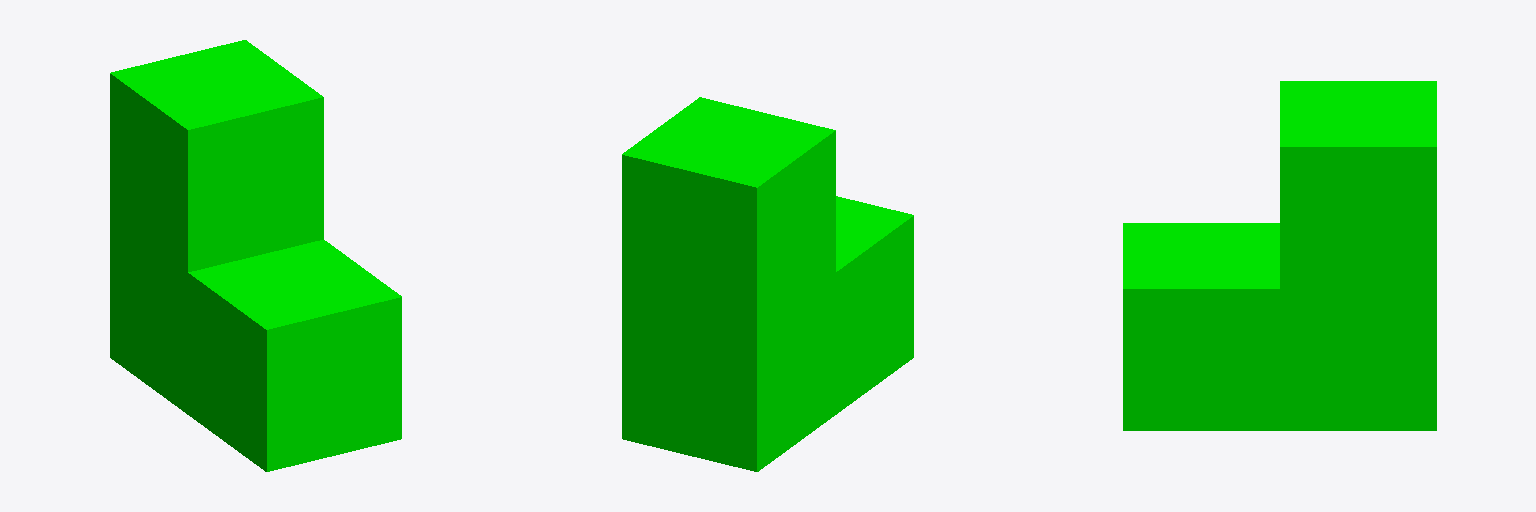
The model's file is Furnace.obj.
3 renders of one model, left to right at view 1: azimuth 30°, elevation 25°; view 2: azimuth 150°, elevation 25°; view 3: azimuth 270°, elevation 25°, orthographic.
Visible parts, largest first — view 1: Cube; view 2: Cube; view 3: Cube.
Boxes of the visible parts, x1=… form: Cube: x1=110, y1=40, x2=401, y2=471; Cube: x1=622, y1=97, x2=913, y2=471; Cube: x1=1123, y1=81, x2=1436, y2=430.
Bounding box in the file's own units: 2 × 4 × 4.